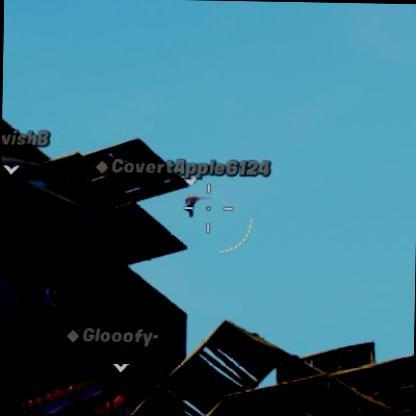person: (184, 192, 194, 217)
